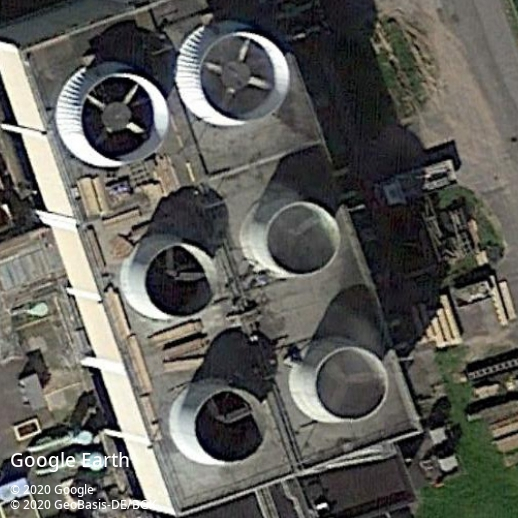Vent: (79, 73, 170, 163), (198, 33, 289, 122), (265, 201, 341, 277), (192, 389, 269, 463), (314, 346, 389, 421), (144, 243, 219, 317)
